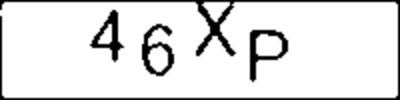4: (89, 7, 126, 64)
6: (138, 22, 177, 78)
P: (246, 26, 289, 83)
X: (191, 1, 239, 59)
